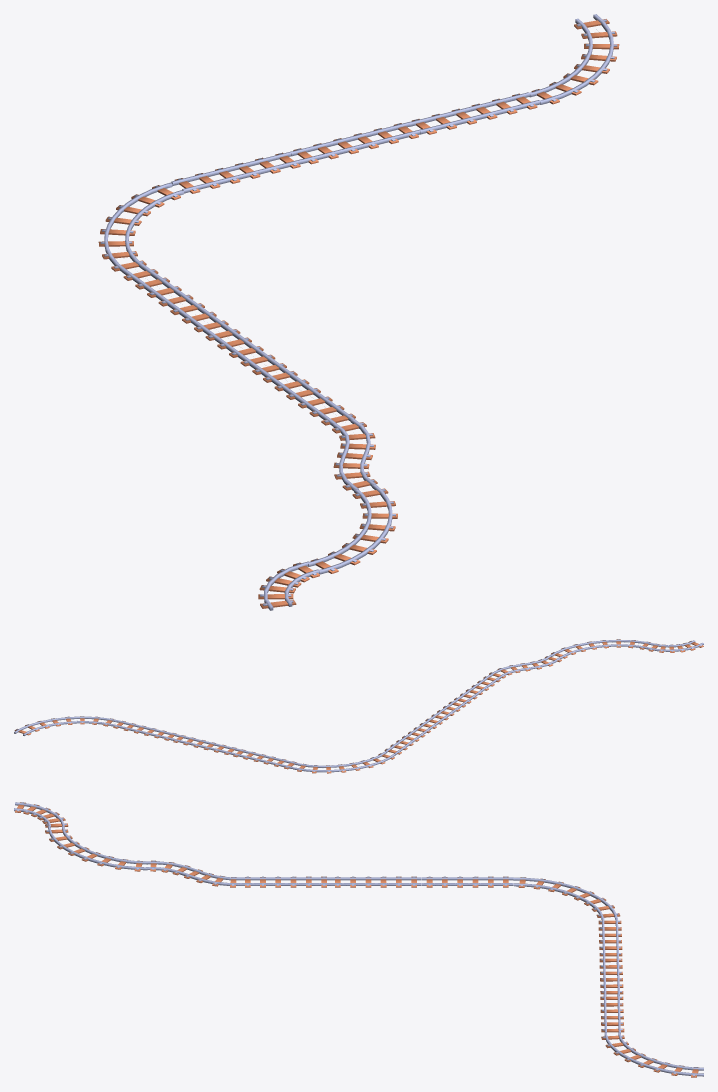
Rendered from traintest4.glb.
The picture shows the model from 3 angles, top to bottom: view 1: azimuth 30°, elevation 25°; view 2: azimuth 150°, elevation 25°; view 3: azimuth 270°, elevation 25°; orthographic projection. The views are drawn at different scales.
Parts seen in each view (by area): view 1: railroad-corner-large.012, railroad-corner-large.013, railroad-corner-large.011, railroad-straight.020, railroad-straight.022, railroad-curve.008, railroad-straight.021, railroad-straight.019, railroad-straight.017, railroad-straight.018, railroad-corner-small.011; view 2: railroad-corner-large.011, railroad-corner-large.012, railroad-corner-large.013, railroad-curve.008, railroad-straight.020, railroad-straight.021, railroad-straight.022, railroad-straight.019, railroad-straight.018, railroad-straight.017, railroad-corner-small.011; view 3: railroad-corner-large.011, railroad-corner-large.012, railroad-corner-large.013, railroad-curve.008, railroad-straight.018, railroad-straight.019, railroad-straight.017, railroad-straight.021, railroad-straight.022, railroad-straight.020, railroad-corner-small.011.
Part boxes in pixels (bbox=[...]): railroad-corner-large.012: bbox=[529, 14, 619, 104]; railroad-corner-large.013: bbox=[308, 484, 397, 574]; railroad-corner-large.011: bbox=[98, 182, 183, 273]; railroad-straight.020: bbox=[171, 151, 302, 193]; railroad-straight.022: bbox=[409, 92, 540, 134]; railroad-curve.008: bbox=[332, 419, 377, 490]; railroad-straight.021: bbox=[291, 122, 421, 164]; railroad-straight.019: bbox=[123, 265, 216, 324]; railroad-straight.017: bbox=[263, 367, 355, 426]; railroad-straight.018: bbox=[194, 317, 286, 375]; railroad-corner-small.011: bbox=[258, 561, 319, 610]; railroad-corner-large.011: bbox=[293, 751, 395, 773]; railroad-corner-large.012: bbox=[14, 716, 116, 735]; railroad-corner-large.013: bbox=[551, 639, 653, 658]; railroad-curve.008: bbox=[489, 654, 561, 678]; railroad-straight.020: bbox=[231, 748, 298, 769]; railroad-straight.021: bbox=[171, 734, 236, 754]; railroad-straight.022: bbox=[111, 720, 177, 740]; railroad-straight.019: bbox=[384, 725, 430, 755]; railroad-straight.018: bbox=[419, 700, 465, 729]; railroad-straight.017: bbox=[454, 674, 500, 704]; railroad-corner-small.011: bbox=[646, 640, 703, 652]; railroad-corner-large.011: bbox=[513, 877, 620, 919]; railroad-corner-large.012: bbox=[601, 1032, 703, 1077]; railroad-corner-large.013: bbox=[45, 826, 147, 871]; railroad-curve.008: bbox=[145, 860, 239, 887]; railroad-straight.018: bbox=[330, 876, 421, 887]; railroad-straight.019: bbox=[422, 876, 513, 887]; railroad-straight.017: bbox=[240, 876, 331, 887]; railroad-straight.021: bbox=[599, 955, 623, 995]; railroad-straight.022: bbox=[600, 994, 624, 1033]; railroad-straight.020: bbox=[598, 917, 622, 956]; railroad-corner-small.011: bbox=[14, 802, 68, 828].
Size of the model in its own units: 28.41 by 0.1197 by 30.17.
4 materials, 4 textured.
